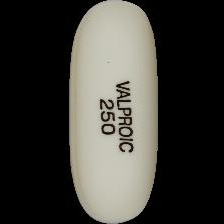0615-7840: (0, 0, 224, 224)
